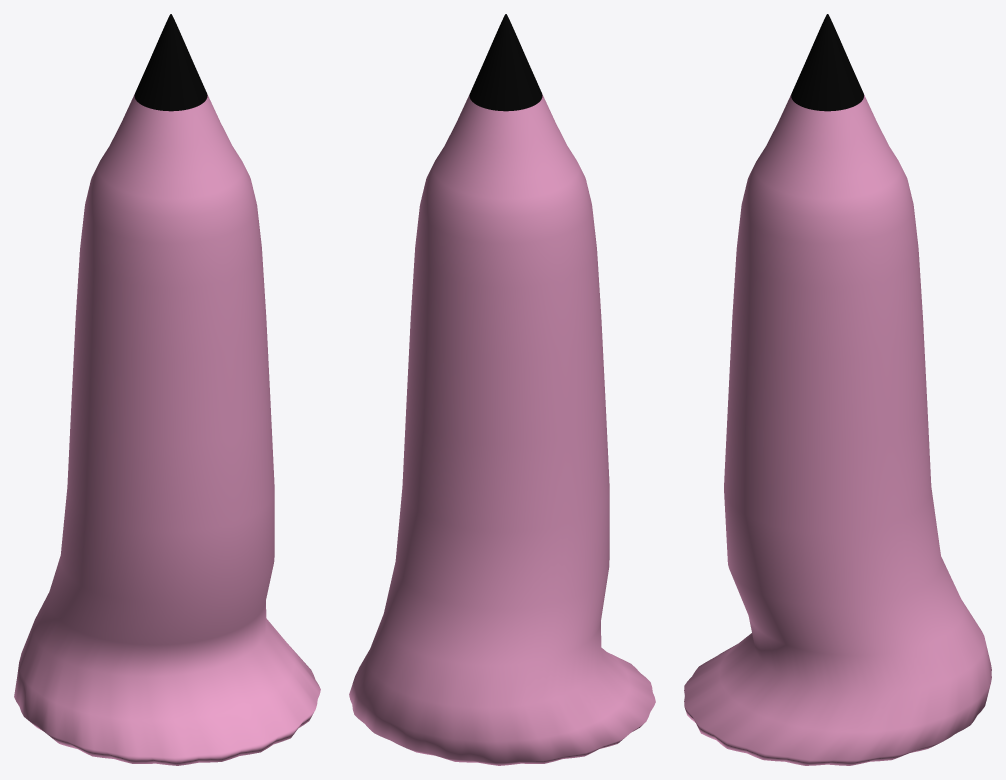
File: pembe.fbx
3 renders of one model, left to right at view 1: azimuth 30°, elevation 25°; view 2: azimuth 150°, elevation 25°; view 3: azimuth 270°, elevation 25°, orthographic.
Parts seen in each view (by area): view 1: pCylinder1; view 2: pCylinder1; view 3: pCylinder1.
Boxes of the visible parts, left/top/right/bottom form: pCylinder1: left=14, top=14, right=320, bottom=765; pCylinder1: left=349, top=14, right=655, bottom=765; pCylinder1: left=684, top=14, right=991, bottom=765.
Bounding box in the file's own units: 4.37 × 11.02 × 4.42.
